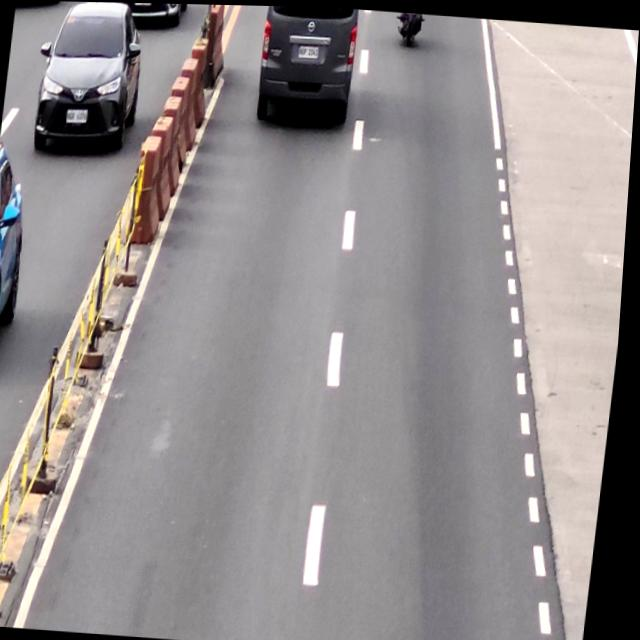Car: (254, 5, 361, 126)
License-Plate: (298, 42, 321, 58)
